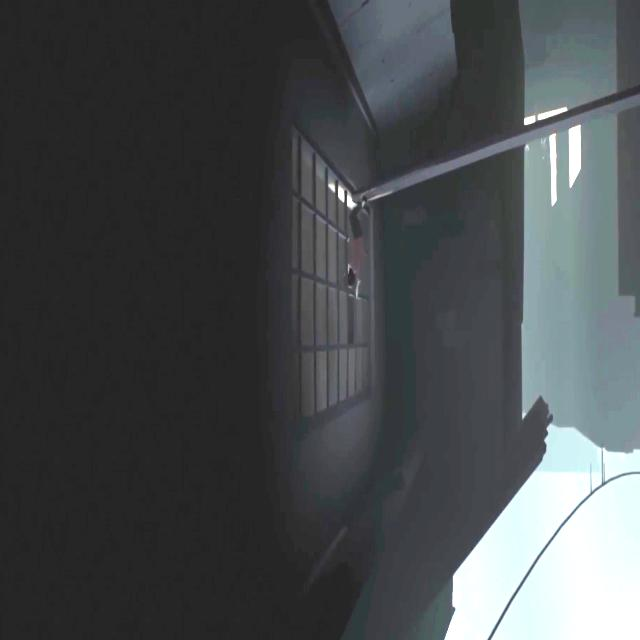boy: (346, 192, 371, 302)
